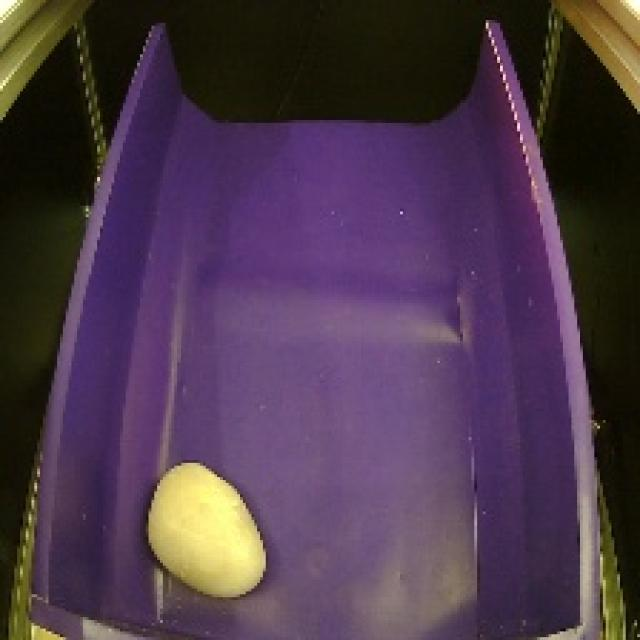cobbles: (131, 450, 280, 608)
